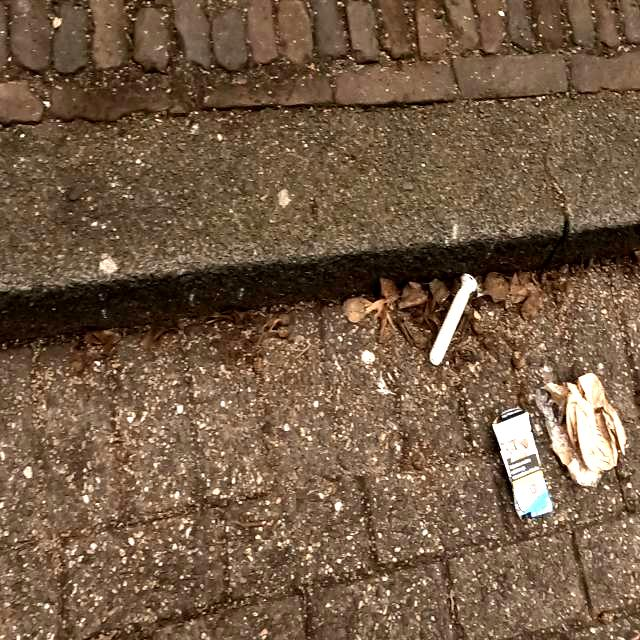Paper: (530, 364, 626, 488), (491, 408, 553, 522)
